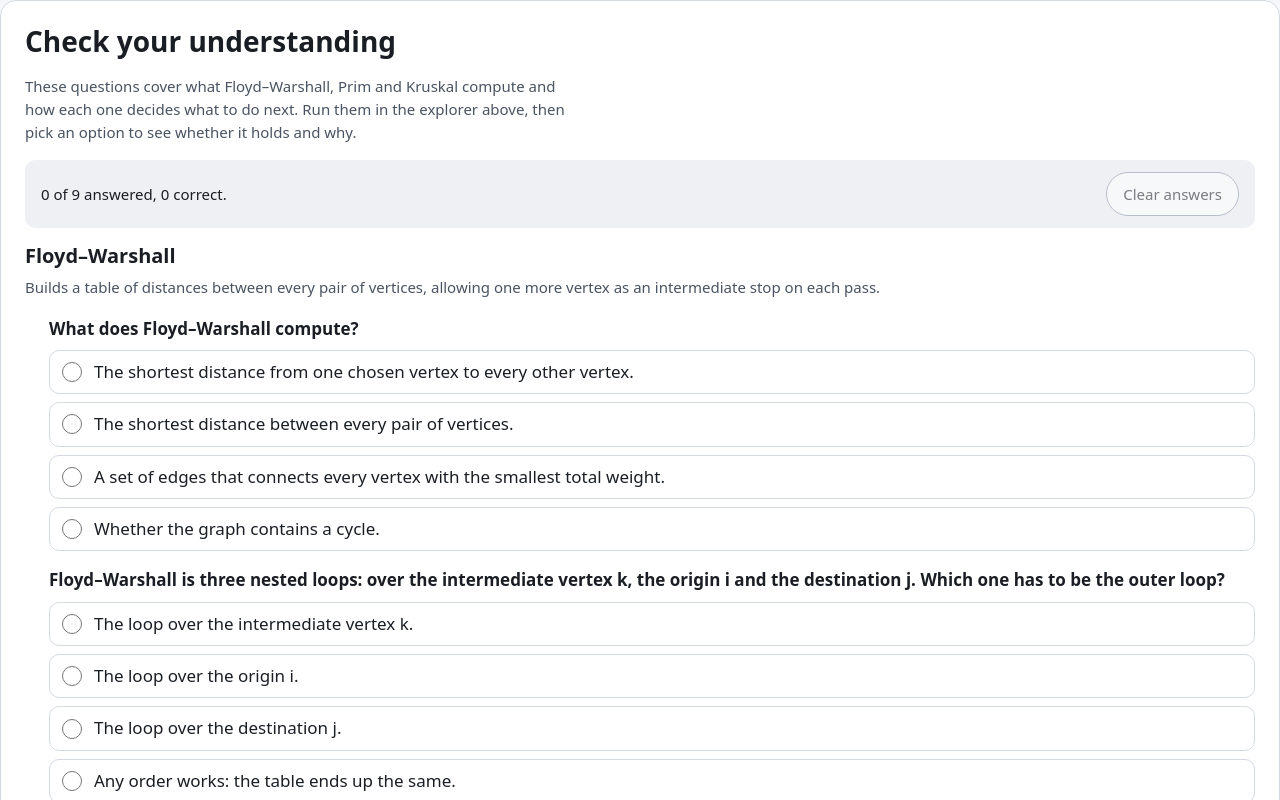
Test: review questions › marks the expected answer after a wrong choice and clears answers on request
Step 1. Click the radio button labelled "The shortest distance from one chosen vertex to every other vertex." → (72, 372), box [62,362,82,382]
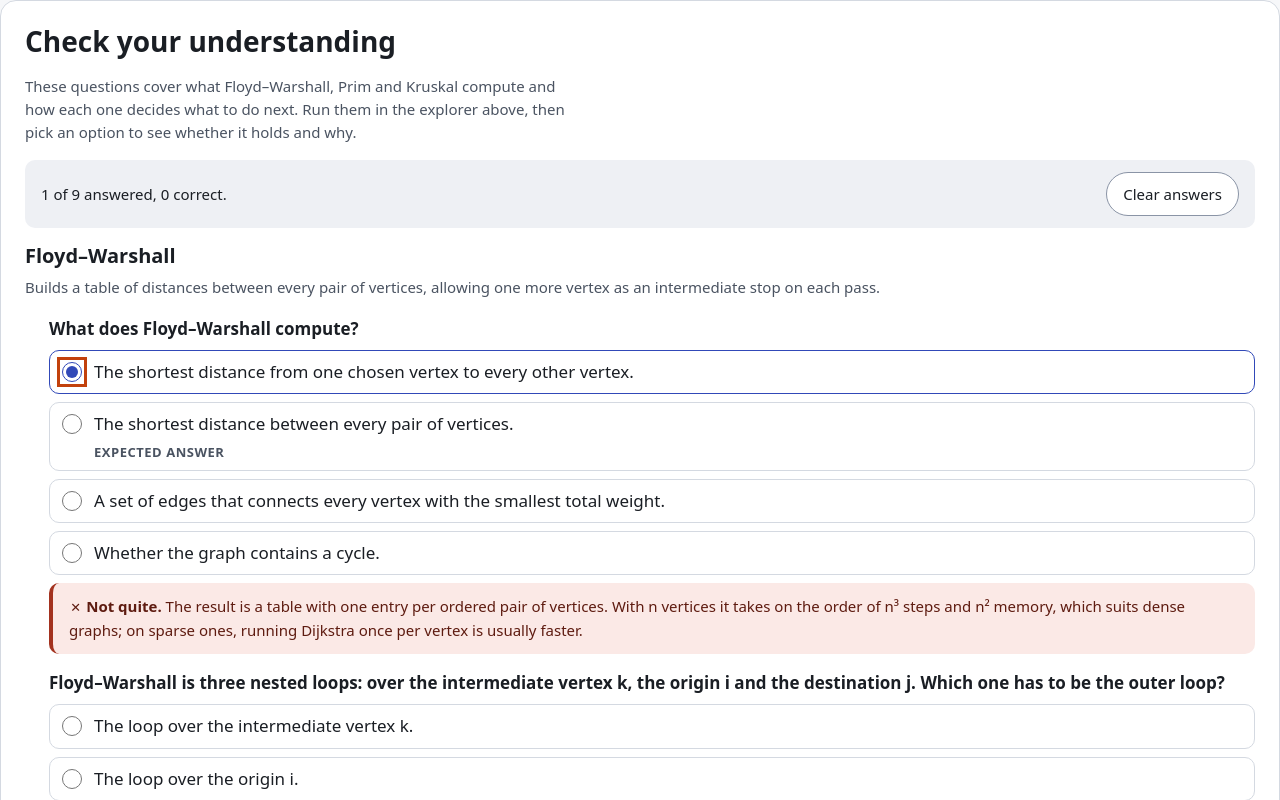
Expected: the text "Not quite." is shown, [86,596,162,616]
Expected: the text "1 of 9 answered, 0 correct." is shown, [41,183,227,206]
Expected: the text "Expected answer" is shown, [94,443,224,461]
Step 2. Click the button "Clear answers" → (1173, 194), box [1106,172,1239,216]
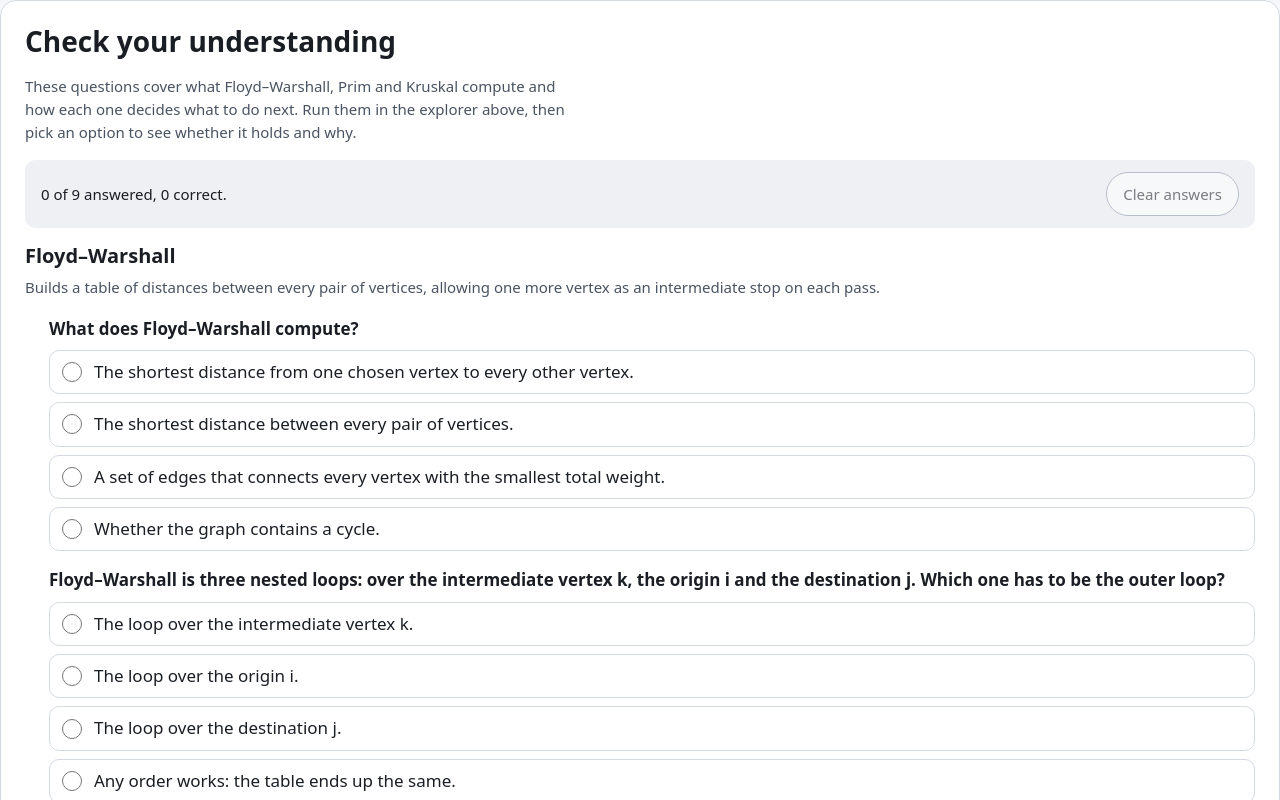
Expected: the text "Not quite." is gone
Expected: the text "0 of 9 answered, 0 correct." is shown, [41,183,227,206]
